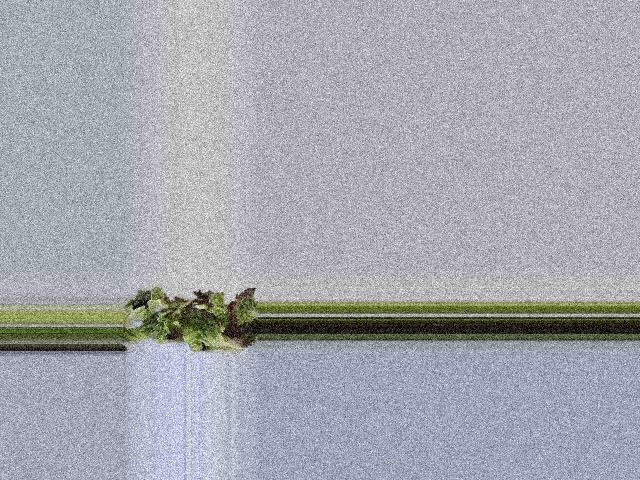lettuce: (130, 292, 253, 342)
